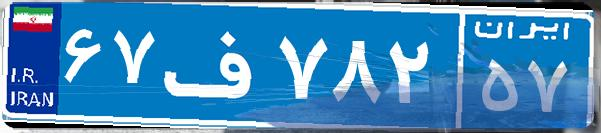2: (385, 28, 445, 110)
5: (475, 38, 525, 113)
6: (57, 26, 110, 107)
7: (273, 28, 330, 110), (110, 28, 158, 105), (525, 38, 570, 115)
8: (330, 28, 385, 110)
ف: (158, 15, 273, 115)
